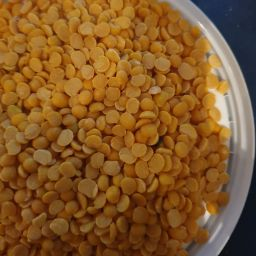Pigeon Pea(toor daal): (3, 3, 234, 256), (12, 126, 237, 256), (8, 7, 218, 138), (13, 65, 215, 190), (54, 39, 162, 242)
